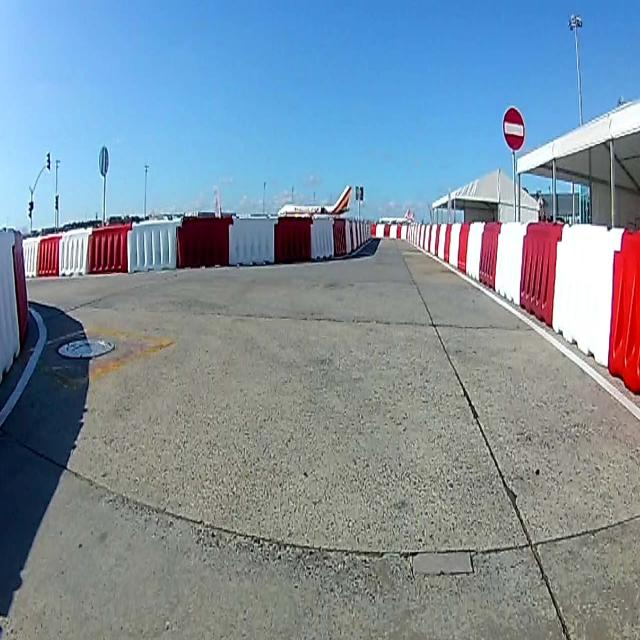girisyok: (502, 107, 524, 150)
